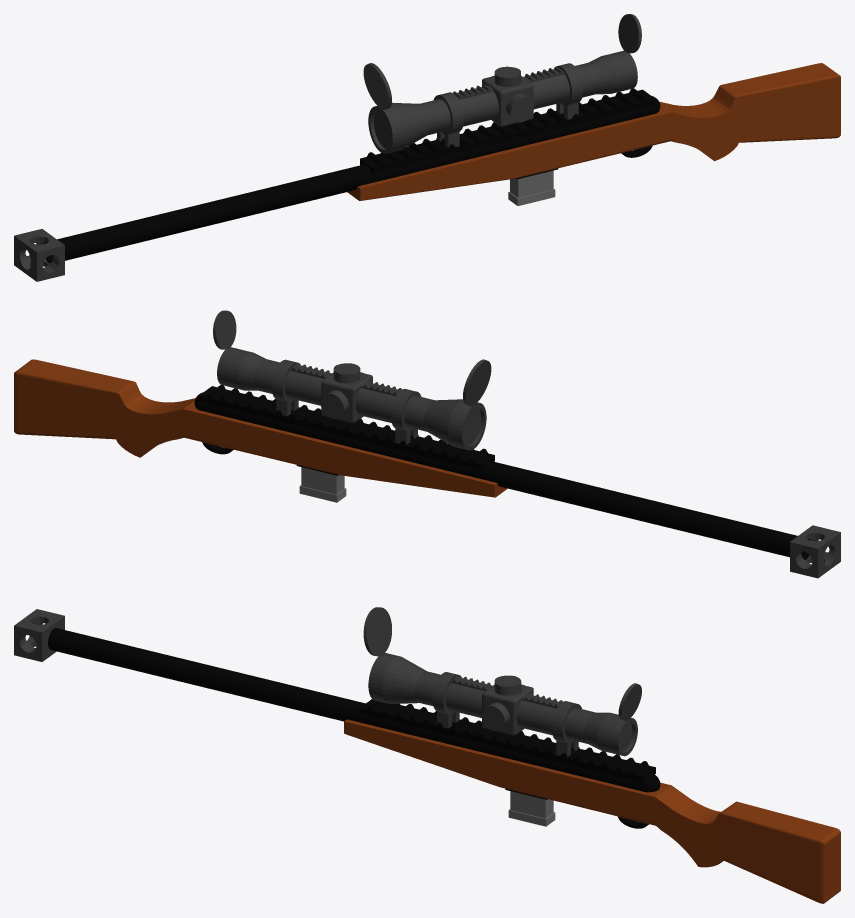
The model's file is sniper.fbx.
3 views of the same model, one above another, from view 1: azimuth 30°, elevation 25°; view 2: azimuth 150°, elevation 25°; view 3: azimuth 330°, elevation 25° (orthographic).
Parts seen in each view (by area): view 1: Cube.002, Cylinder, Cylinder.003, Cube.001, Cube.003, Cube.004, Cylinder.001, Cylinder.002; view 2: Cube.002, Cylinder, Cylinder.003, Cube.001, Cube.003, Cube.004, Cylinder.001, Cylinder.002; view 3: Cube.002, Cylinder, Cylinder.003, Cube.001, Cube.003, Cube.004, Cylinder.001, Cylinder.002.
Part boxes in pixels (left/top/right/bottom): Cube.002: left=347, top=63, right=840, bottom=200; Cylinder: left=368, top=50, right=637, bottom=153; Cylinder.003: left=44, top=96, right=660, bottom=263; Cube.001: left=360, top=88, right=655, bottom=174; Cube.003: left=14, top=229, right=64, bottom=281; Cube.004: left=508, top=170, right=555, bottom=205; Cylinder.001: left=363, top=63, right=391, bottom=109; Cylinder.002: left=618, top=14, right=641, bottom=53; Cube.002: left=14, top=359, right=507, bottom=497; Cylinder: left=217, top=347, right=486, bottom=450; Cylinder.003: left=194, top=392, right=810, bottom=559; Cube.001: left=199, top=385, right=494, bottom=470; Cube.003: left=790, top=525, right=840, bottom=578; Cube.004: left=299, top=467, right=346, bottom=502; Cylinder.001: left=463, top=359, right=491, bottom=406; Cylinder.002: left=213, top=310, right=236, bottom=349; Cube.002: left=344, top=719, right=840, bottom=903; Cylinder: left=368, top=653, right=637, bottom=756; Cylinder.003: left=48, top=628, right=660, bottom=792; Cube.001: left=360, top=699, right=655, bottom=782; Cube.003: left=14, top=609, right=64, bottom=661; Cube.004: left=508, top=791, right=555, bottom=826; Cylinder.001: left=363, top=607, right=391, bottom=656; Cylinder.002: left=618, top=683, right=641, bottom=720.
Size of the model in its own units: 5709 by 1203 by 360.
